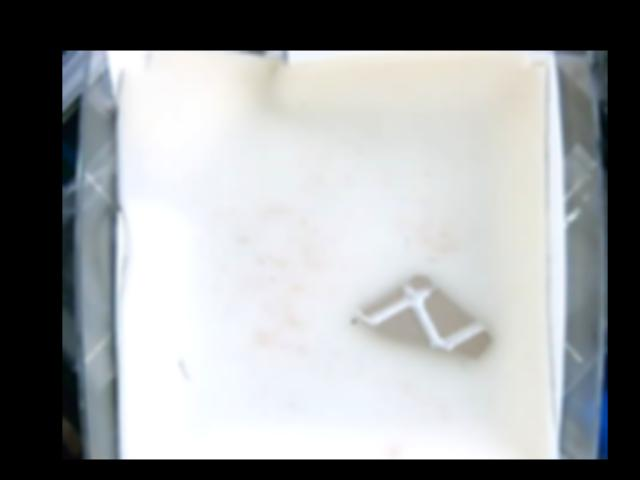China: (353, 273, 491, 359)
